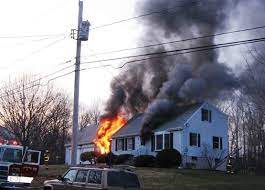smoke: (92, 1, 228, 116)
